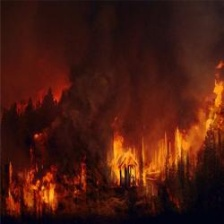fire: (109, 75, 220, 190), (9, 164, 74, 212)
